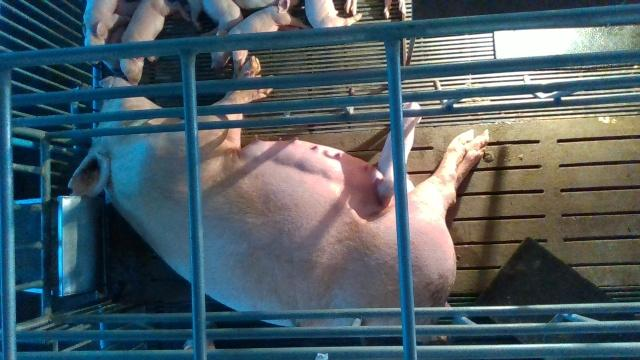piglet: (210, 6, 311, 77), (119, 0, 190, 84), (371, 101, 422, 203), (189, 0, 244, 70), (81, 0, 121, 64)
sow-sleep-lactate: (69, 58, 490, 328)
